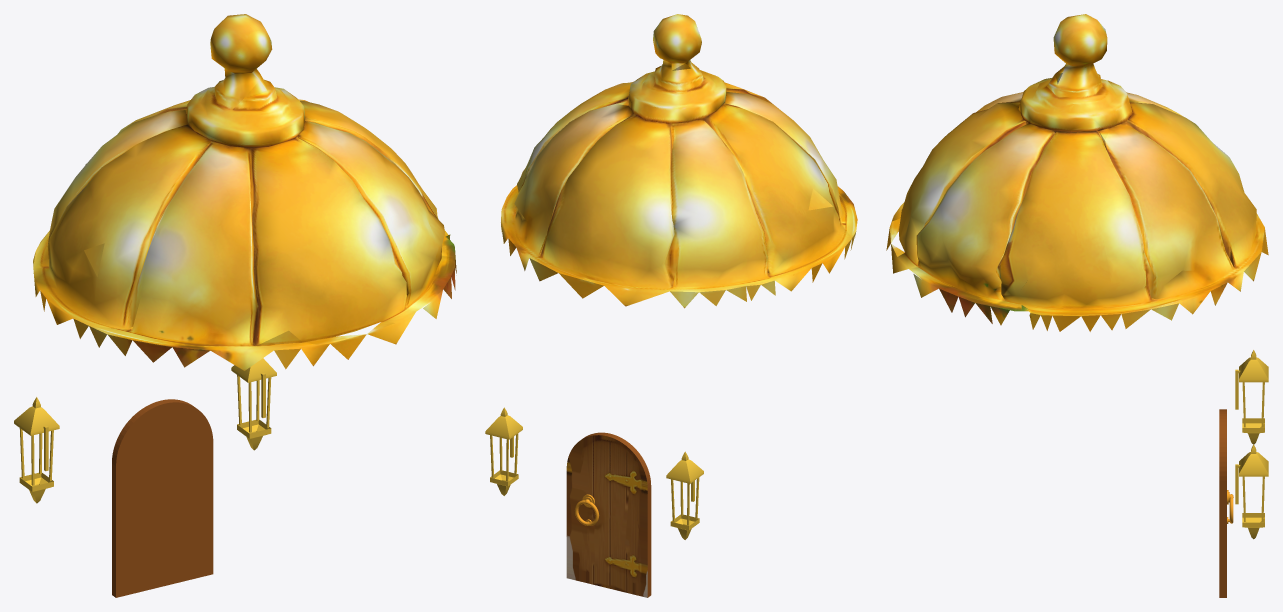
The model's file is HaloDomeHouse_09_deco.glb.
3 renders of one model, left to right at view 1: azimuth 30°, elevation 25°; view 2: azimuth 150°, elevation 25°; view 3: azimuth 270°, elevation 25°, orthographic. The views are drawn at different scales.
Visible parts, largest first — view 1: HaloDomeHouse_09_Dome, HaloDomeHouse_09_Leaf, HaloDomeHouse_09_Lantern0, HaloDomeHouse_09_Lantern1; view 2: HaloDomeHouse_09_Dome, HaloDomeHouse_09_Leaf, HaloDomeHouse_09_Lantern0, HaloDomeHouse_09_Lantern1; view 3: HaloDomeHouse_09_Dome, HaloDomeHouse_09_Leaf, HaloDomeHouse_09_Lantern0, HaloDomeHouse_09_Lantern1.
Boxes of the visible parts, bbox=[...] form: HaloDomeHouse_09_Dome: bbox=[33, 14, 456, 370]; HaloDomeHouse_09_Leaf: bbox=[112, 399, 213, 597]; HaloDomeHouse_09_Lantern0: bbox=[14, 397, 59, 503]; HaloDomeHouse_09_Lantern1: bbox=[231, 358, 276, 450]; HaloDomeHouse_09_Dome: bbox=[501, 14, 857, 308]; HaloDomeHouse_09_Leaf: bbox=[566, 432, 651, 597]; HaloDomeHouse_09_Lantern0: bbox=[666, 451, 703, 539]; HaloDomeHouse_09_Lantern1: bbox=[485, 407, 522, 495]; HaloDomeHouse_09_Dome: bbox=[886, 14, 1268, 331]; HaloDomeHouse_09_Leaf: bbox=[1219, 409, 1226, 597]; HaloDomeHouse_09_Lantern0: bbox=[1235, 350, 1268, 444]; HaloDomeHouse_09_Lantern1: bbox=[1235, 444, 1268, 539].
Bounding box in the file's own units: 16.52 × 26.48 × 16.4.
Materials: 4 (2 with a texture image).
